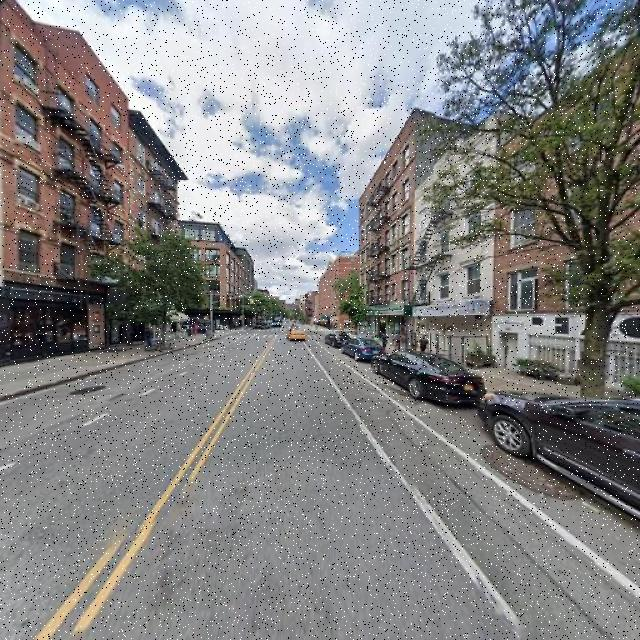Building: (500, 42, 640, 399), (87, 42, 175, 353), (13, 2, 82, 365), (414, 118, 496, 367), (362, 119, 412, 348), (1, 1, 4, 367)
